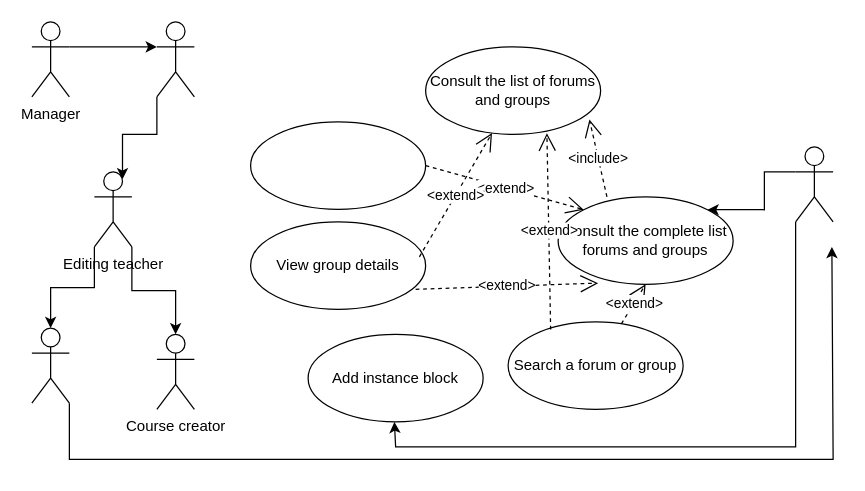
Some shapes in this 865 by 491 pixel diagram are drawn without their labels. Here are the shapes that lost their labels. From the top down, the centre of each, then its label:
At (175,59): "Program manager".
At (337,165): "Update group".
At (813,184): "Student".
At (50,365): "Teacher".
